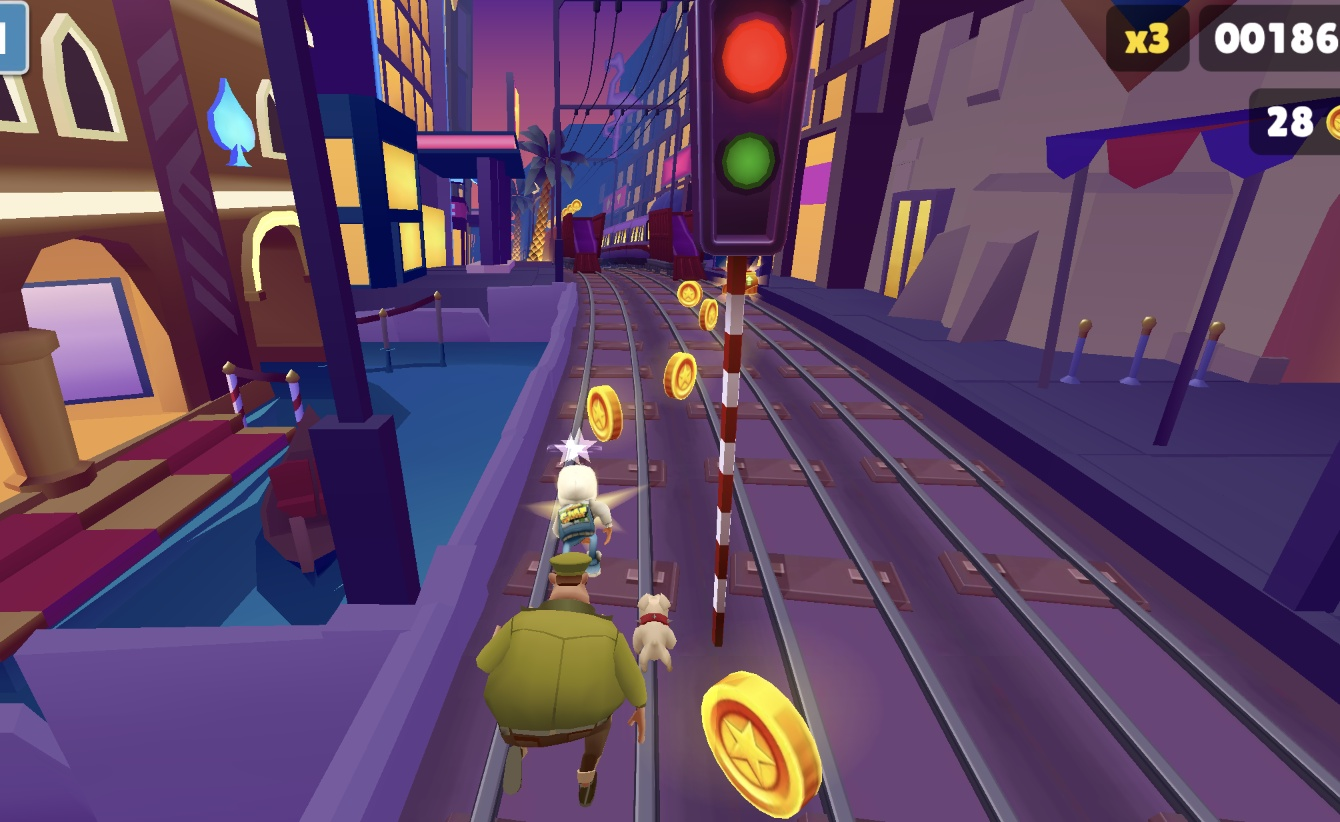train: (648, 203, 710, 284), (556, 204, 605, 274), (598, 218, 656, 269)
